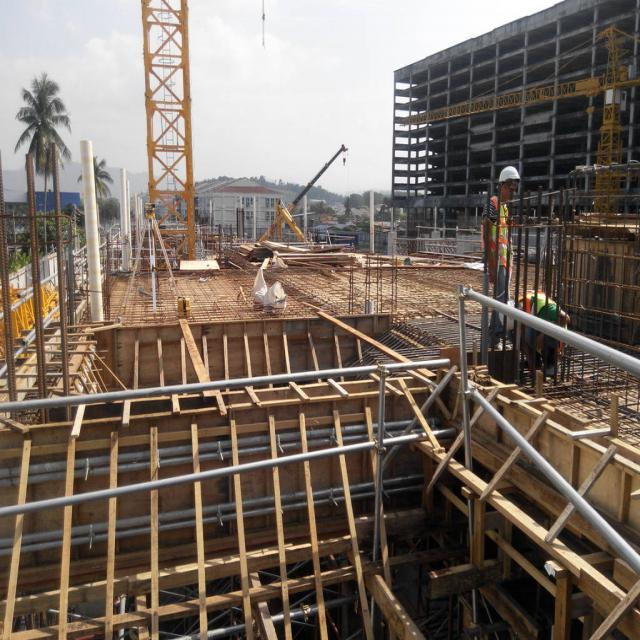Reflective-Jacket: (481, 201, 517, 270)
Safety-Helmet: (498, 163, 521, 184)
